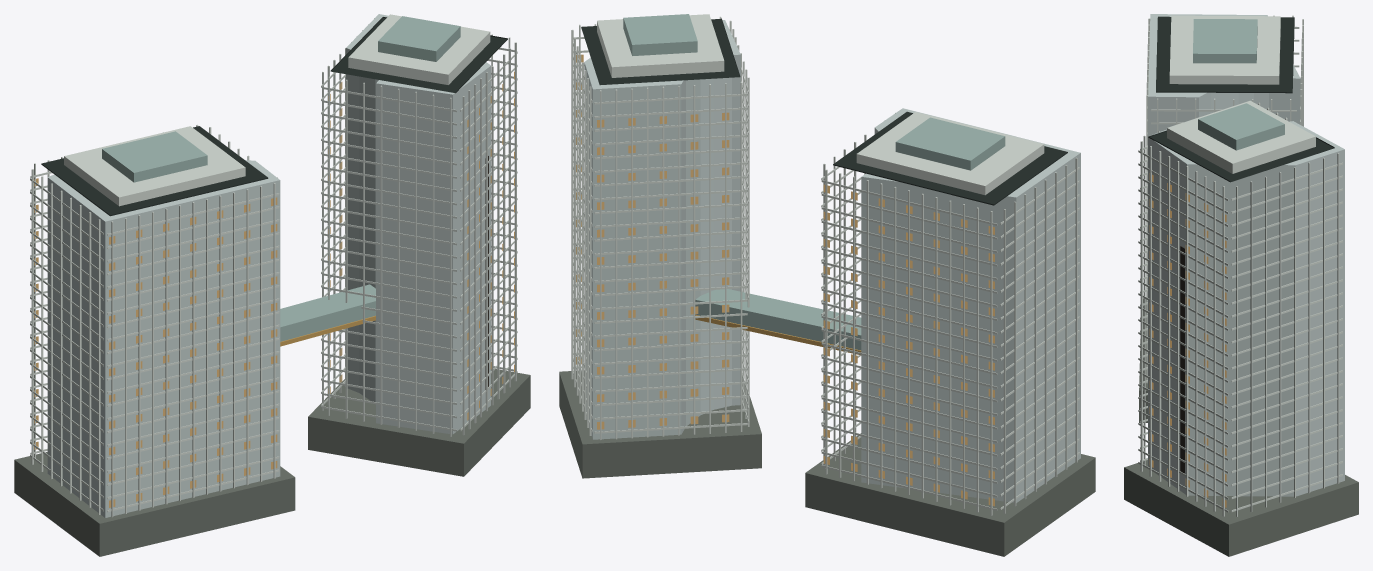
Rendered from baidu-intl.glb.
3 views of the same model, side by side, from view 1: azimuth 30°, elevation 25°; view 2: azimuth 150°, elevation 25°; view 3: azimuth 270°, elevation 25° (orthographic). The views are drawn at different scales.
Visible parts, largest first — view 1: envelope, fins, floor_bands, podium, crown_step, crown_screen, night_windows, roof_deck, baidu_link; view 2: envelope, fins, floor_bands, podium, crown_step, night_windows, crown_screen, roof_deck, baidu_link, baidu_link_frame; view 3: envelope, fins, floor_bands, podium, crown_step, crown_screen, roof_deck, night_windows, zipper_slot.
Boxes of the visible parts, x1=… form: envelope: x1=47, y1=14, x2=490, y2=517; fins: x1=31, y1=18, x2=516, y2=517; floor_bands: x1=30, y1=47, x2=517, y2=512; podium: x1=14, y1=369, x2=530, y2=556; crown_step: x1=64, y1=14, x2=490, y2=206; crown_screen: x1=102, y1=16, x2=460, y2=182; night_windows: x1=34, y1=71, x2=514, y2=507; roof_deck: x1=41, y1=17, x2=507, y2=216; baidu_link: x1=280, y1=284, x2=375, y2=341; envelope: x1=584, y1=20, x2=1080, y2=502; fins: x1=571, y1=16, x2=1077, y2=515; floor_bands: x1=573, y1=36, x2=1079, y2=510; podium: x1=559, y1=370, x2=1095, y2=556; crown_step: x1=597, y1=14, x2=1044, y2=195; night_windows: x1=576, y1=54, x2=994, y2=506; crown_screen: x1=623, y1=14, x2=1005, y2=170; roof_deck: x1=581, y1=18, x2=1067, y2=205; baidu_link: x1=695, y1=289, x2=861, y2=350; baidu_link_frame: x1=695, y1=315, x2=861, y2=355; envelope: x1=1148, y1=14, x2=1344, y2=496; fins: x1=1140, y1=15, x2=1339, y2=516; floor_bands: x1=1138, y1=26, x2=1342, y2=512; podium: x1=1124, y1=298, x2=1358, y2=556; crown_step: x1=1167, y1=15, x2=1315, y2=173; crown_screen: x1=1193, y1=19, x2=1284, y2=150; roof_deck: x1=1148, y1=16, x2=1334, y2=182; night_windows: x1=1149, y1=173, x2=1226, y2=507; zipper_slot: x1=1180, y1=246, x2=1184, y2=473.
Size of the model in its own units: 240 by 191 by 105.
